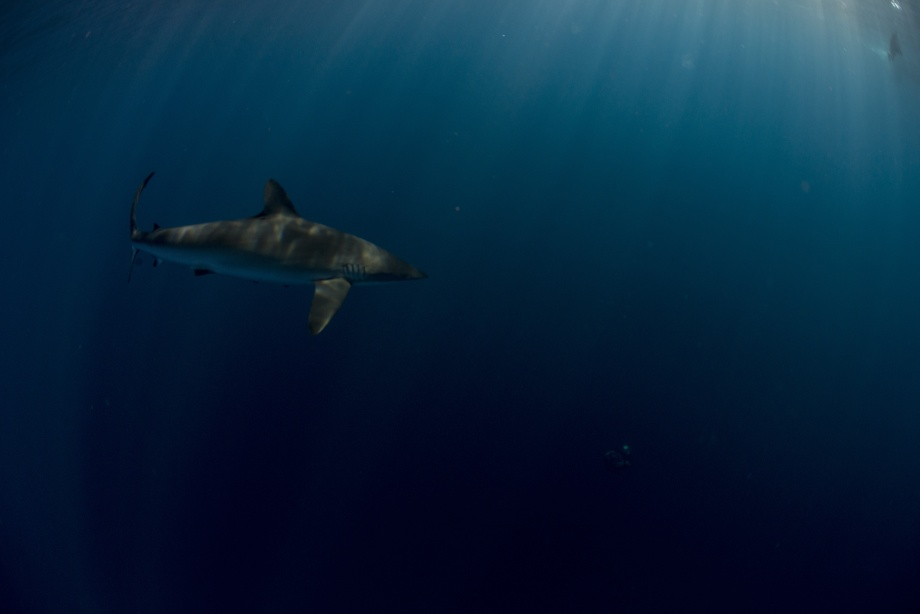Sedoso: (102, 154, 460, 341)
